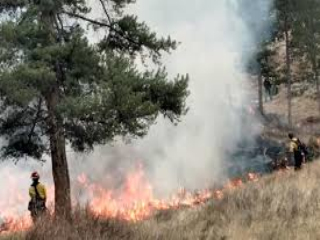fire: (79, 171, 210, 225)
smoke: (134, 11, 255, 158)
